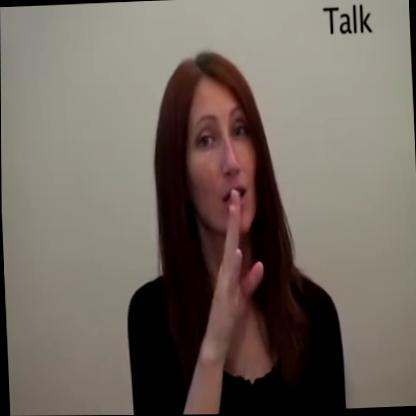Talk: (156, 40, 287, 369)
